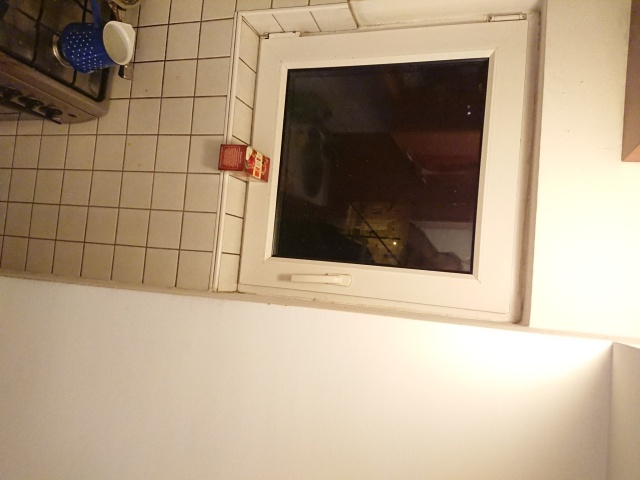Franck Apple Cinnamon Tea 60g: (215, 142, 273, 185)
